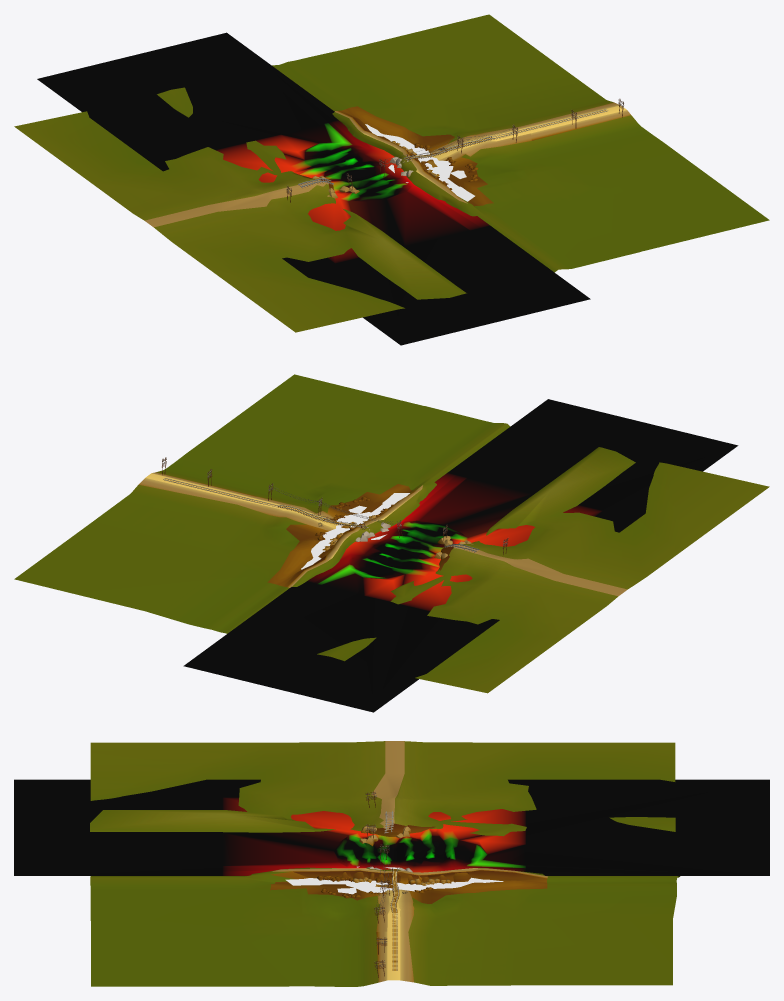
File: Diorama_RailWay.fbx
3 views of the same model, one above another, from view 1: azimuth 30°, elevation 25°; view 2: azimuth 150°, elevation 25°; view 3: azimuth 270°, elevation 25° (orthographic). The views are drawn at different scales.
Visible parts, largest first — view 1: Plane, River, River_Part_02; view 2: Plane, River, River_Part_02; view 3: Plane, River, River_Part_02, Plane.006.
Boxes of the visible parts, x1=… form: Plane: x1=14, y1=14, x2=769, y2=332; River: x1=37, y1=32, x2=590, y2=345; River_Part_02: x1=365, y1=124, x2=474, y2=201; Plane: x1=14, y1=374, x2=769, y2=693; River: x1=183, y1=399, x2=738, y2=712; River_Part_02: x1=301, y1=493, x2=409, y2=569; Plane: x1=90, y1=741, x2=680, y2=986; River: x1=14, y1=779, x2=769, y2=875; River_Part_02: x1=285, y1=866, x2=503, y2=894; Plane.006: x1=342, y1=872, x2=471, y2=883.
Bounding box in the file's own units: 20495 × 1384 × 27239.
